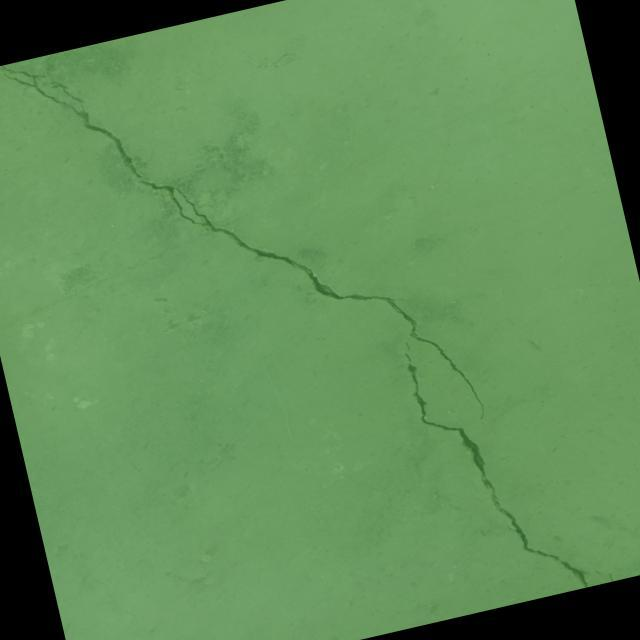crack: (0, 0, 487, 507), (400, 312, 593, 615), (596, 567, 614, 584)
